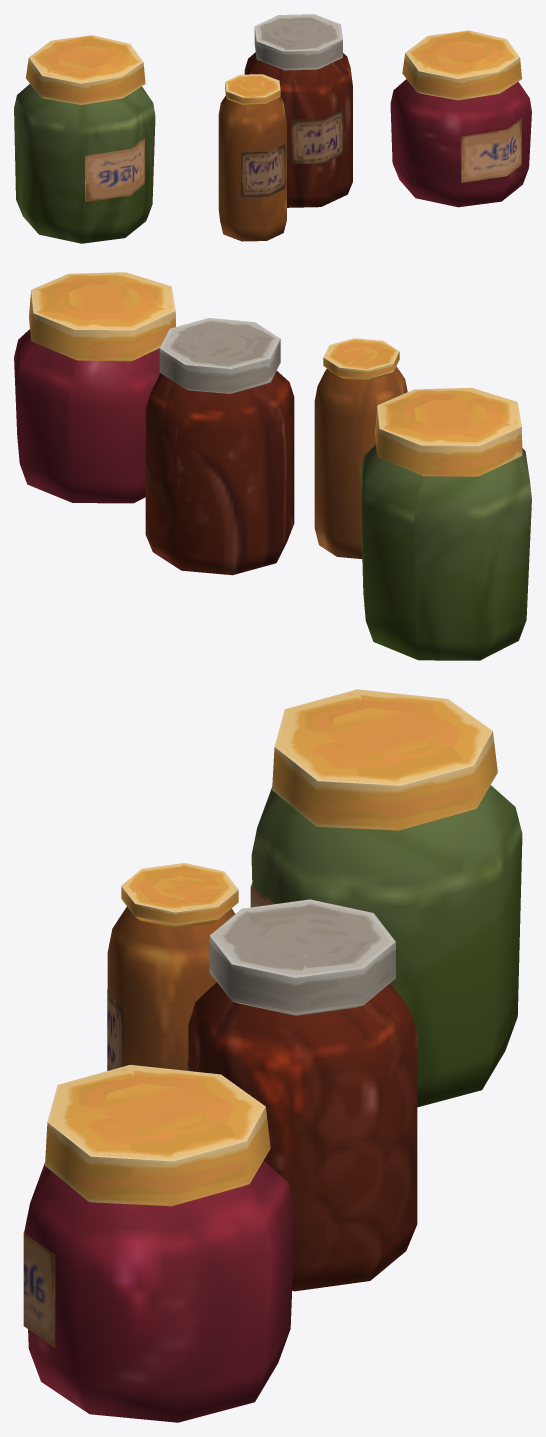
Rendered from Jar_Group4_uo.fbx.
3 renders of one model, top to bottom at view 1: azimuth 30°, elevation 25°; view 2: azimuth 150°, elevation 25°; view 3: azimuth 270°, elevation 25°, orthographic. The views are drawn at different scales.
Parts seen in each view (by area): view 1: Jar_Group4; view 2: Jar_Group4; view 3: Jar_Group4.
Part boxes in pixels (<box>): Jar_Group4: <box>14,14,531,243</box>; Jar_Group4: <box>14,272,531,660</box>; Jar_Group4: <box>23,689,522,1422</box>.
Size of the model in its own units: 60.81 by 21.58 by 29.94.
Materials: 1 (1 with a texture image).
